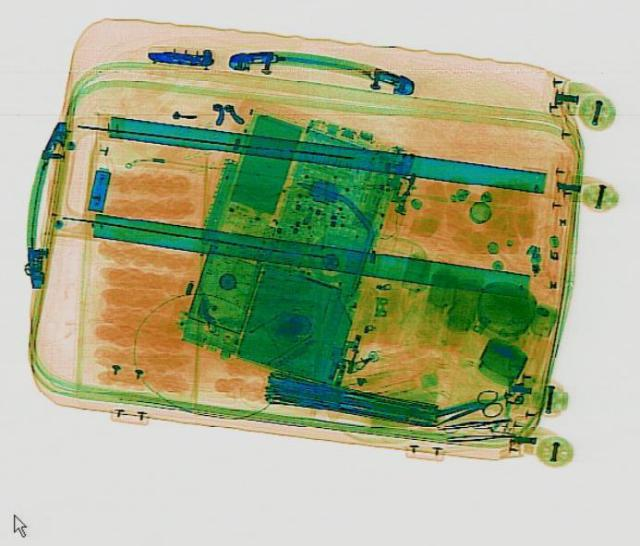Scissors: (428, 385, 510, 432)
